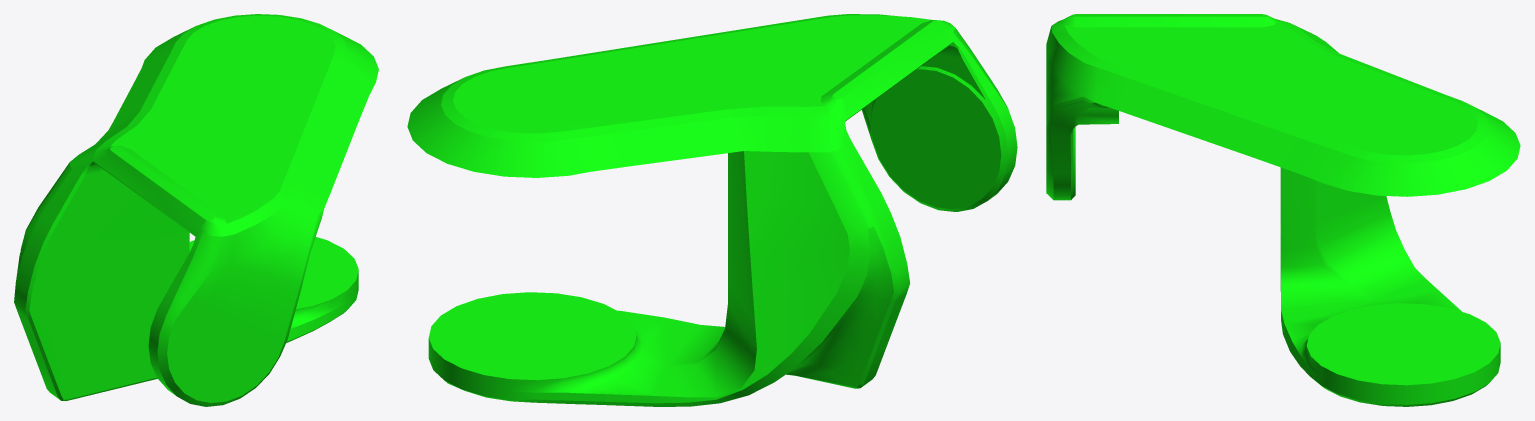
The model's file is LeftHipYawLink.obj.
The picture shows the model from 3 angles, left to right: view 1: azimuth 30°, elevation 25°; view 2: azimuth 150°, elevation 25°; view 3: azimuth 270°, elevation 25°; orthographic projection. The views are drawn at different scales.
Visible parts, largest first — view 1: LeftHipYaw_Retopo; view 2: LeftHipYaw_Retopo; view 3: LeftHipYaw_Retopo.
Boxes of the visible parts, x1=… form: LeftHipYaw_Retopo: x1=14, y1=14, x2=378, y2=406; LeftHipYaw_Retopo: x1=407, y1=14, x2=1017, y2=406; LeftHipYaw_Retopo: x1=1046, y1=14, x2=1520, y2=406.
Size of the model in its own units: 0.1939 by 0.1173 by 0.2027.
